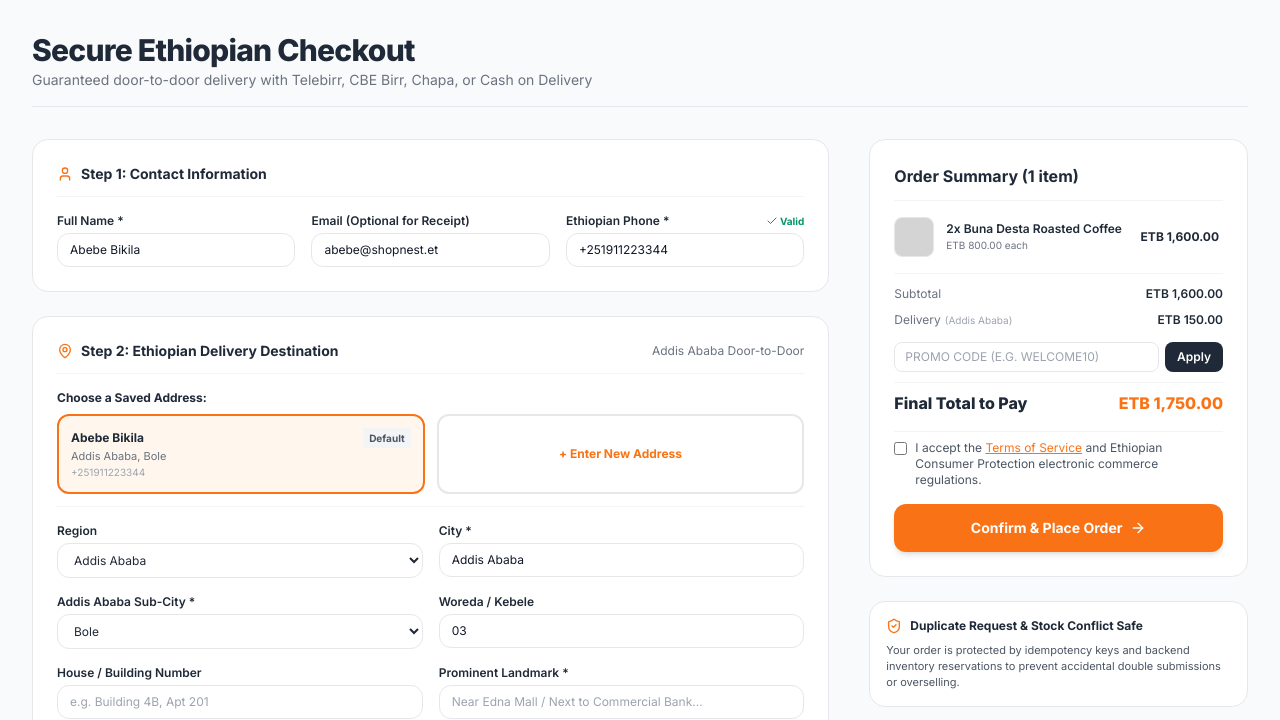
Test: CheckoutPage Storefront Component › validates Ethiopian phone number format and shows error feedback on invalid phone
The width and height of the screenshot is (1280, 720).
Replace the text in the field with placeholder "+251 911 234567" below "Ethiopian Phone *" with "+14155552671" at [685, 250], box [566,233,804,267]
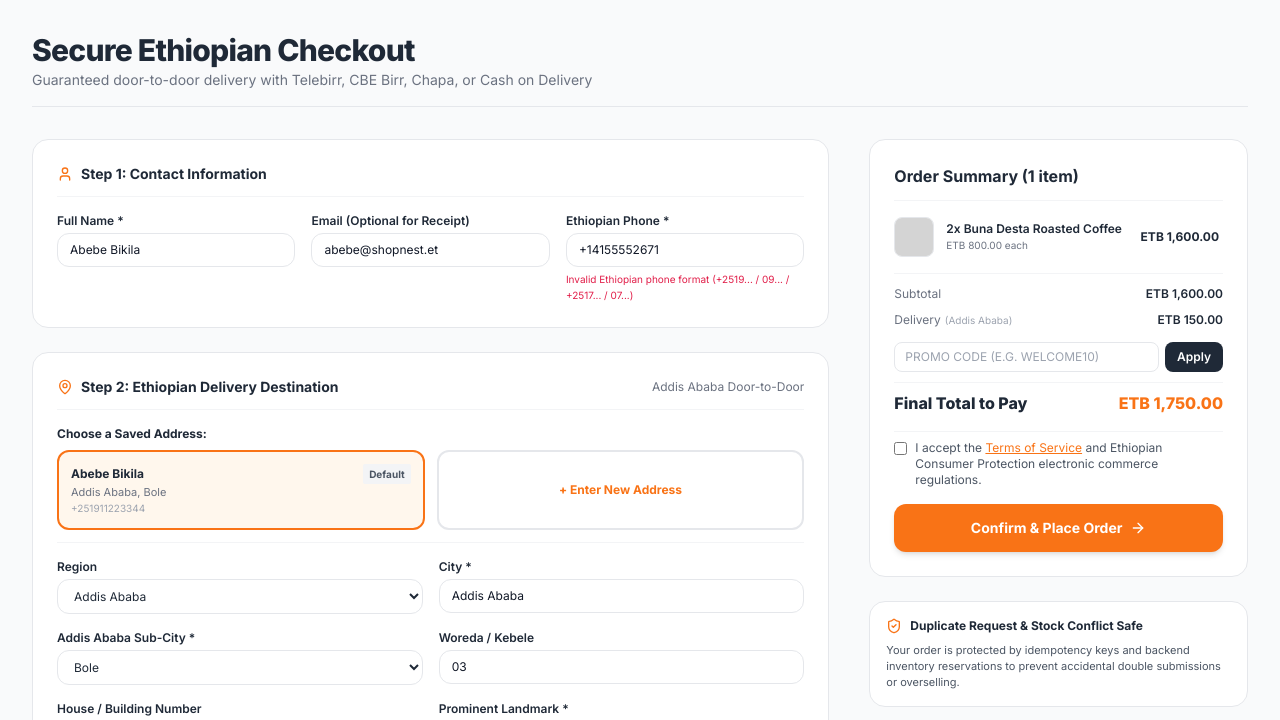
Result: the text "Invalid Ethiopian phone format" is shown at [566,273,789,301]
Change to valid Ethiopian number
Replace the text in the field with placeholder "+251 911 234567" below "Ethiopian Phone *" with "+251911445566" at [685, 250], box [566,233,804,267]
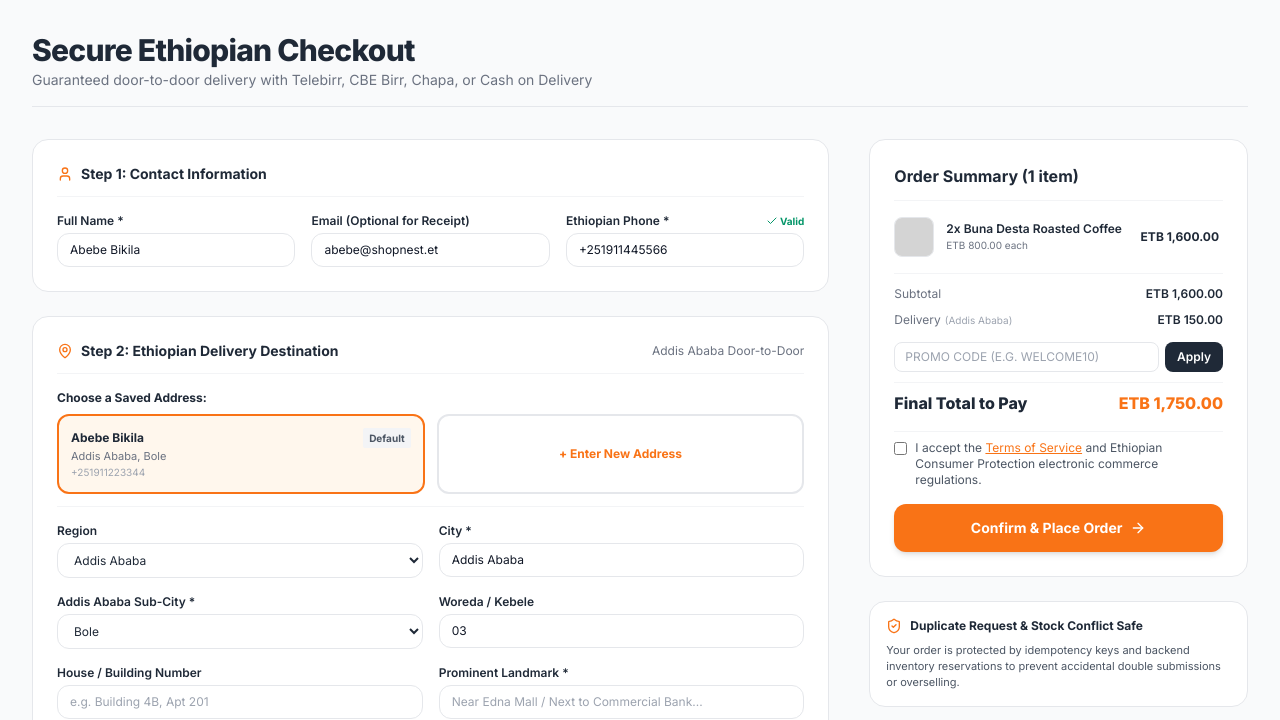
Expected: the text "Valid" is shown, [766,213,804,229]
Result: the text "Invalid Ethiopian phone format" is gone
